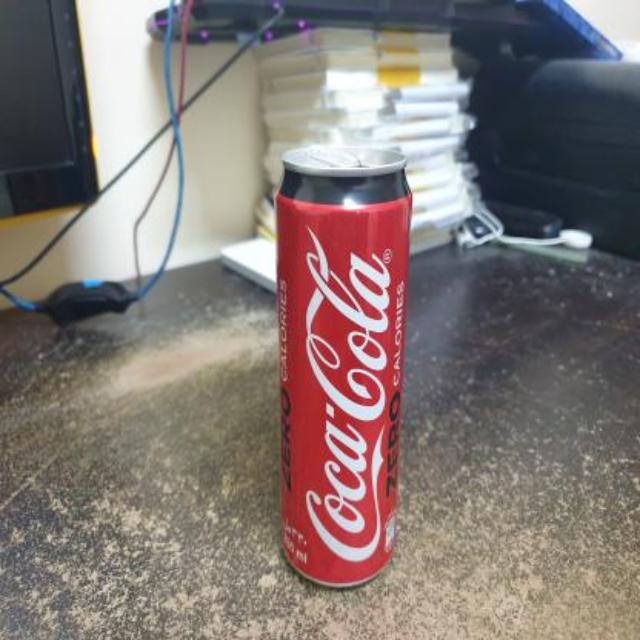metal: (275, 145, 408, 583)
